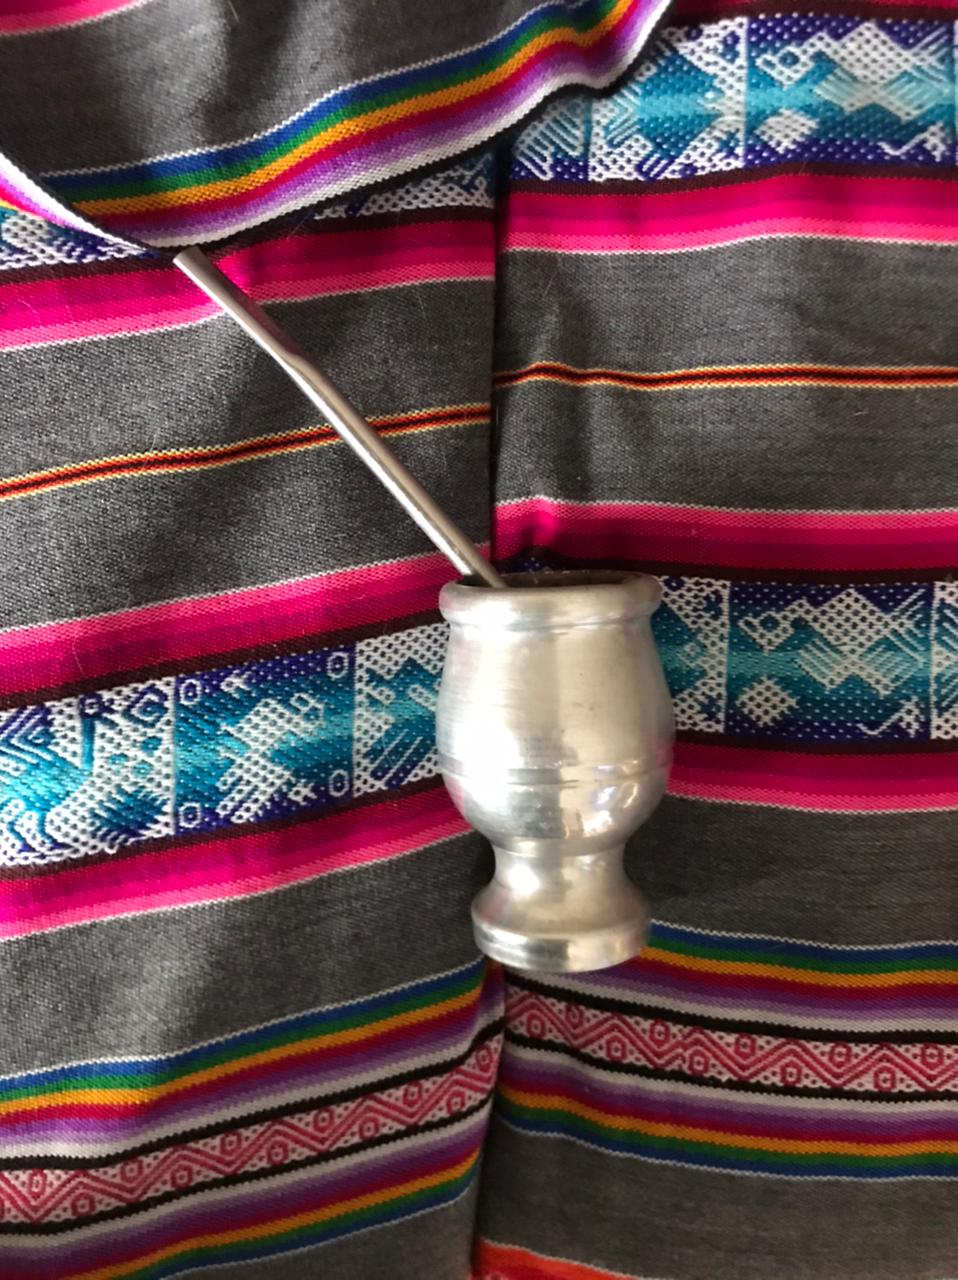mate: (162, 244, 680, 985)
